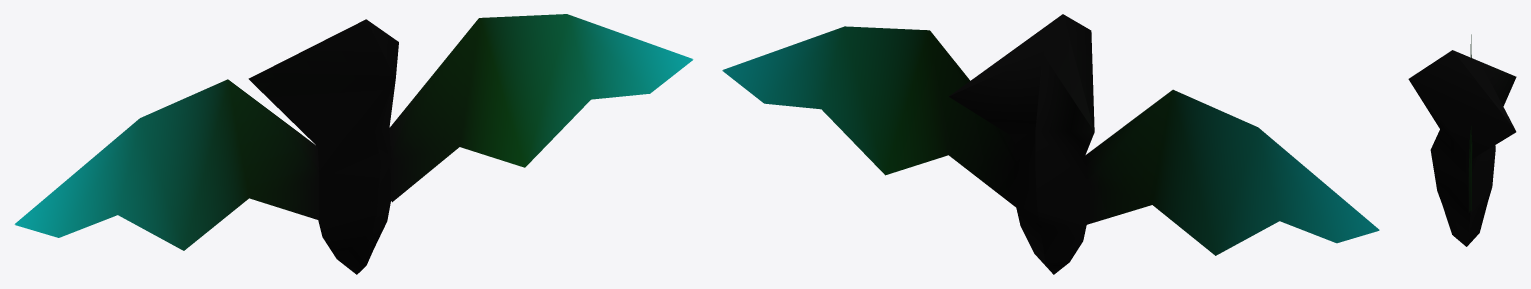
The model's file is VFX_Example_Geometry_09.fbx.
The picture shows the model from 3 angles, left to right: view 1: azimuth 30°, elevation 25°; view 2: azimuth 150°, elevation 25°; view 3: azimuth 270°, elevation 25°; orthographic projection. The views are drawn at different scales.
Parts seen in each view (by area): view 1: Bat; view 2: Bat; view 3: Bat.
Part boxes in pixels (x1,y1,x2,y2): Bat: (14, 14, 693, 274); Bat: (722, 14, 1379, 274); Bat: (1408, 34, 1516, 246).
Size of the model in its own units: 519 by 192 by 95.44.
